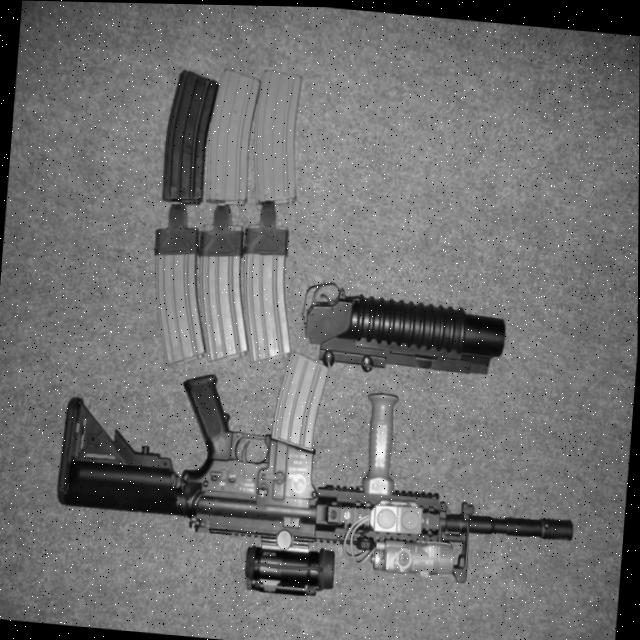firearm: (49, 325, 588, 621)
rocket: (296, 274, 510, 382)
